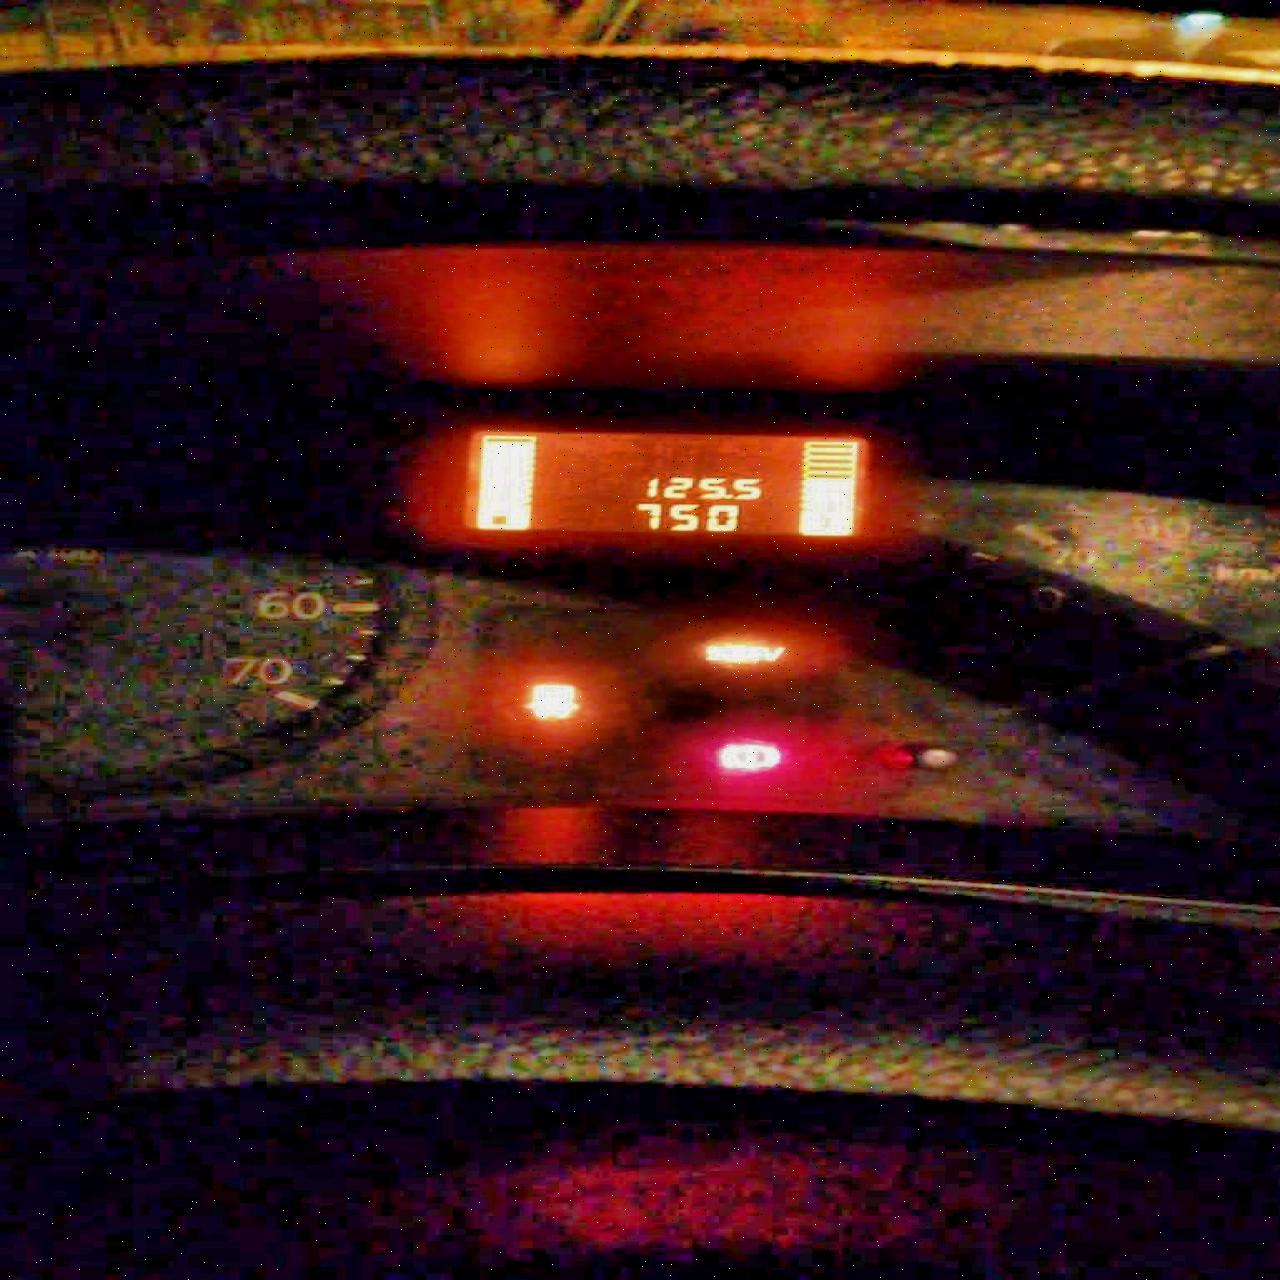-: (722, 492, 733, 499)
0: (704, 504, 738, 532)
1: (644, 477, 659, 497)
2: (661, 477, 693, 498)
5: (666, 503, 700, 531), (730, 478, 761, 499), (697, 477, 726, 498)
7: (634, 502, 662, 531)
odometer: (455, 425, 871, 540)
